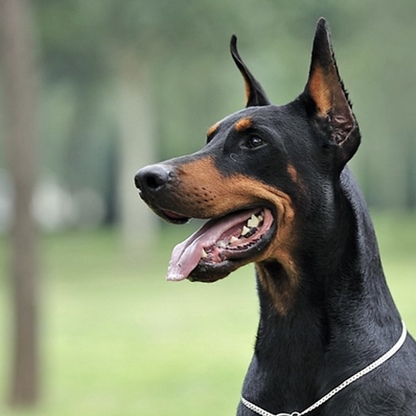doberman: (129, 16, 416, 413)
